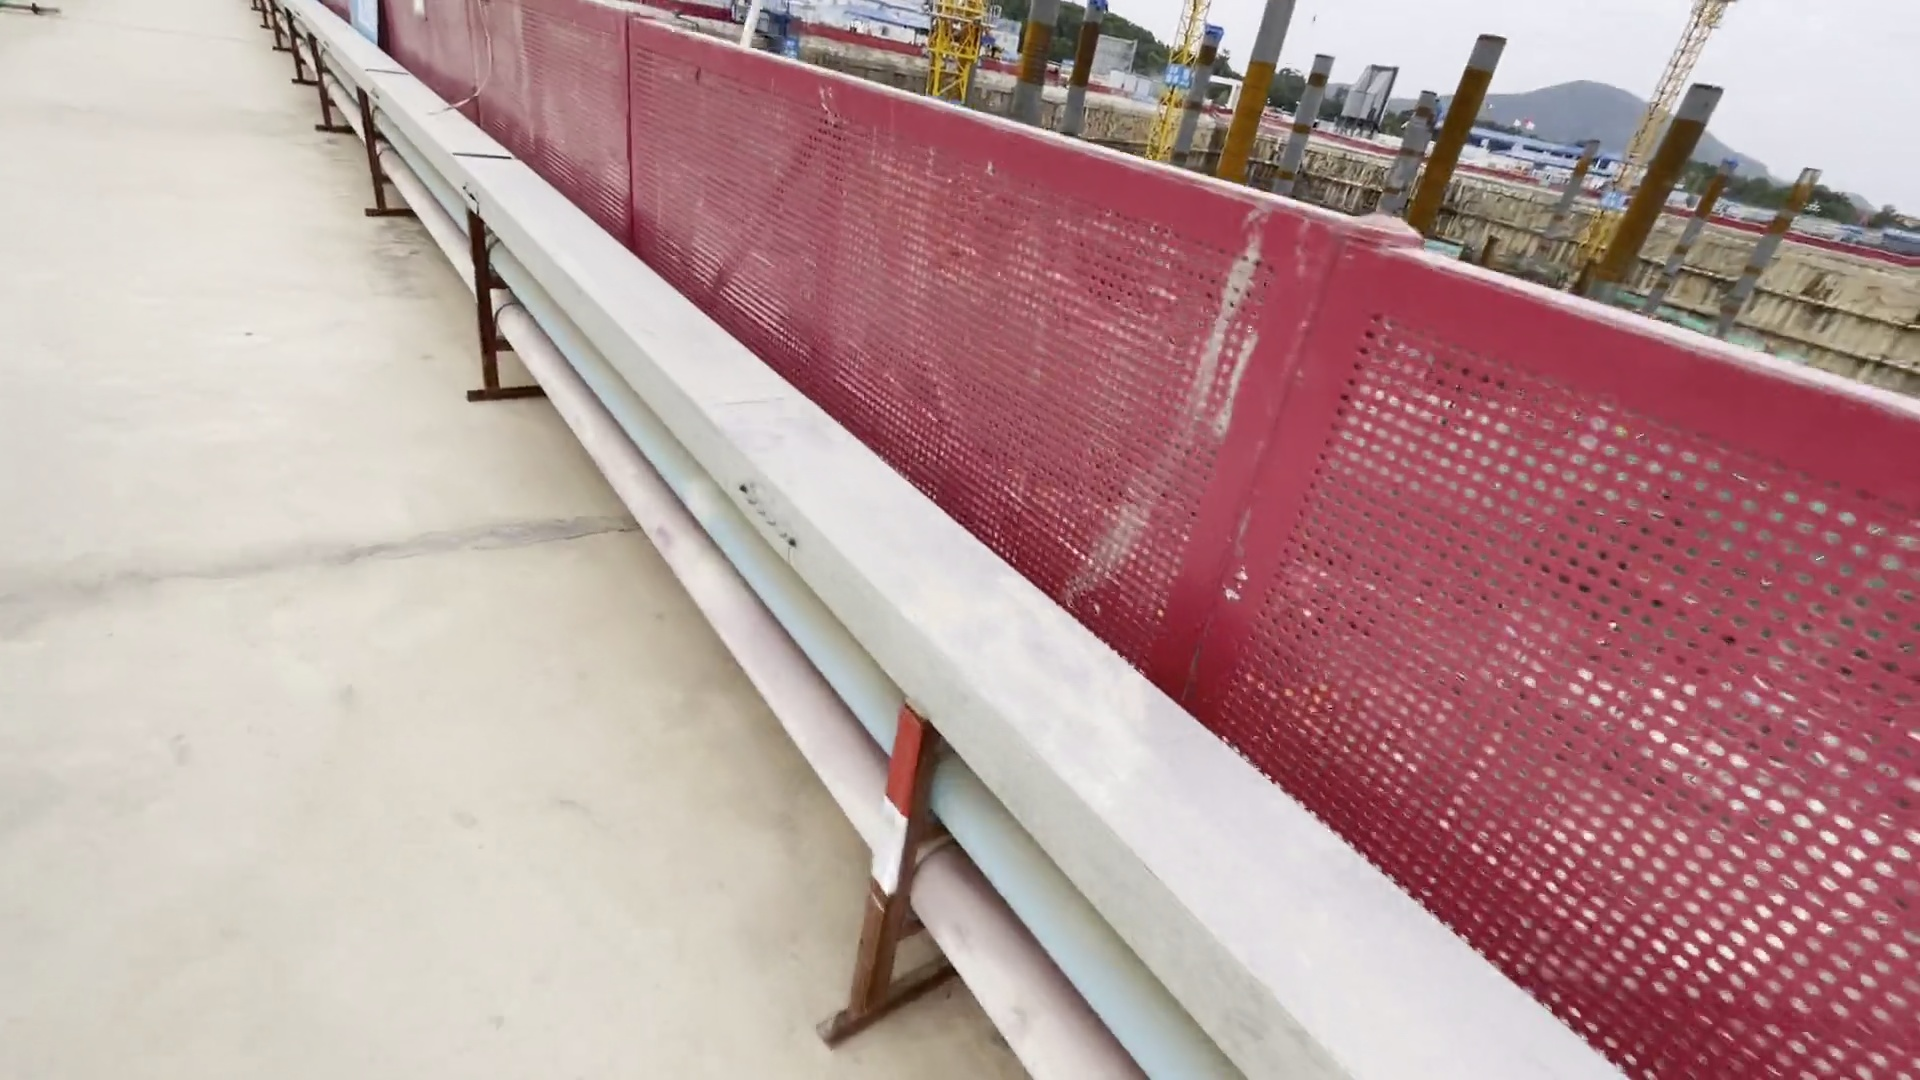fence: (476, 1, 1884, 1060)
